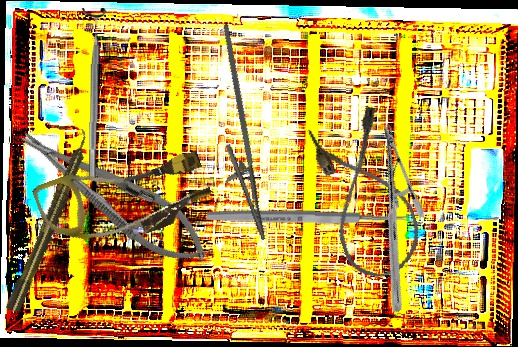Cannula: (31, 130, 217, 266), (304, 104, 430, 286)
Fixation Ring: (78, 7, 108, 179)
Handpiece: (3, 128, 97, 315)
Needle Holder: (9, 112, 220, 280), (307, 122, 478, 314), (181, 23, 292, 246)
Surgical Spoon: (206, 208, 424, 227)
